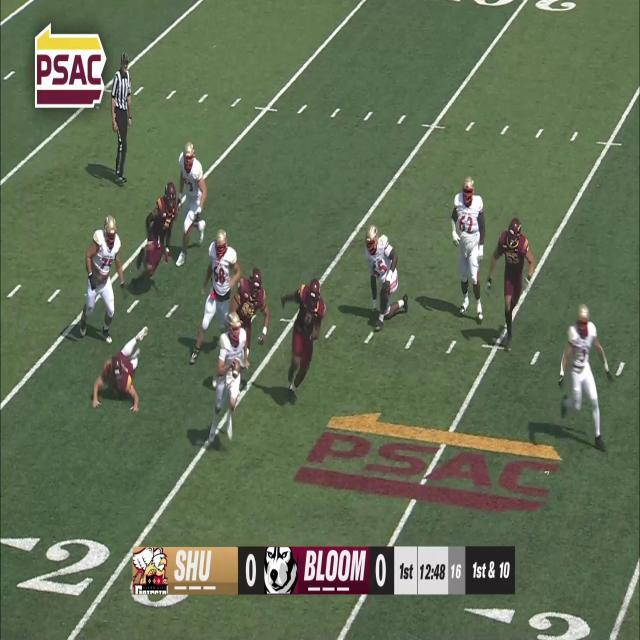football: (231, 356, 241, 378)
